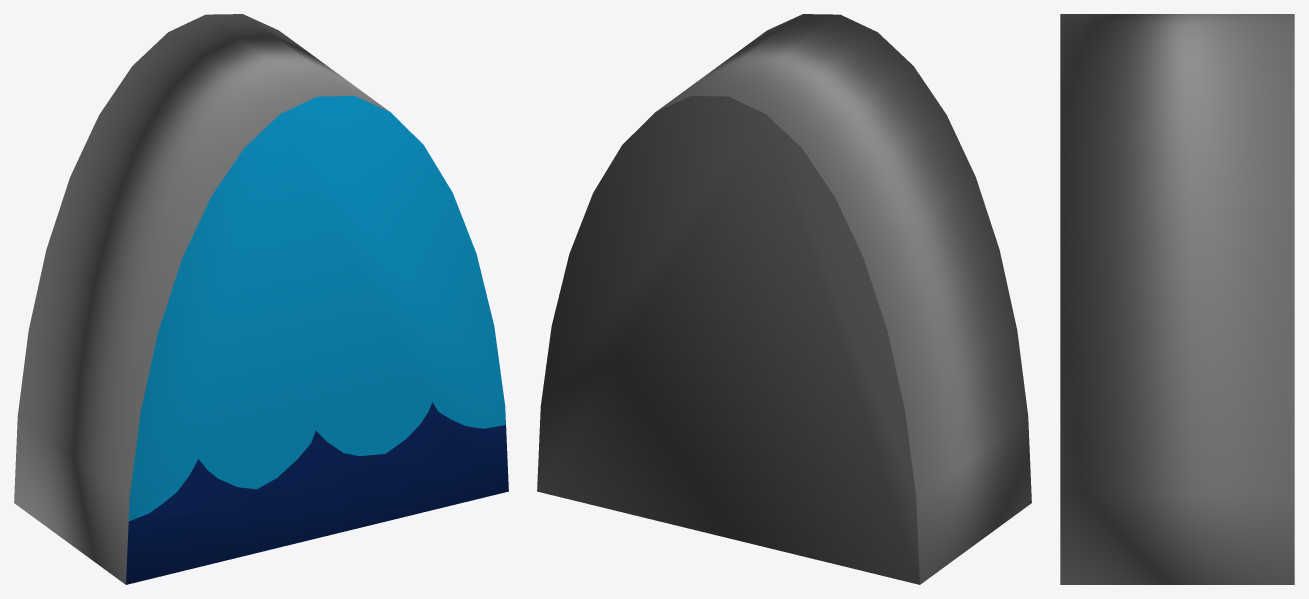
File: totem-gate.fbx
3 renders of one model, left to right at view 1: azimuth 30°, elevation 25°; view 2: azimuth 150°, elevation 25°; view 3: azimuth 270°, elevation 25°, orthographic. The views are drawn at different scales.
Parts seen in each view (by area): view 1: Sphere; view 2: Sphere; view 3: Sphere.
Boxes of the visible parts, left/top/right/bottom form: Sphere: left=14, top=14, right=508, bottom=584; Sphere: left=537, top=14, right=1031, bottom=584; Sphere: left=1060, top=14, right=1294, bottom=584.
Size of the model in its own units: 280 by 309 by 142.
